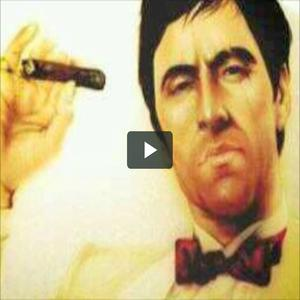cigarette: (18, 58, 107, 91)
